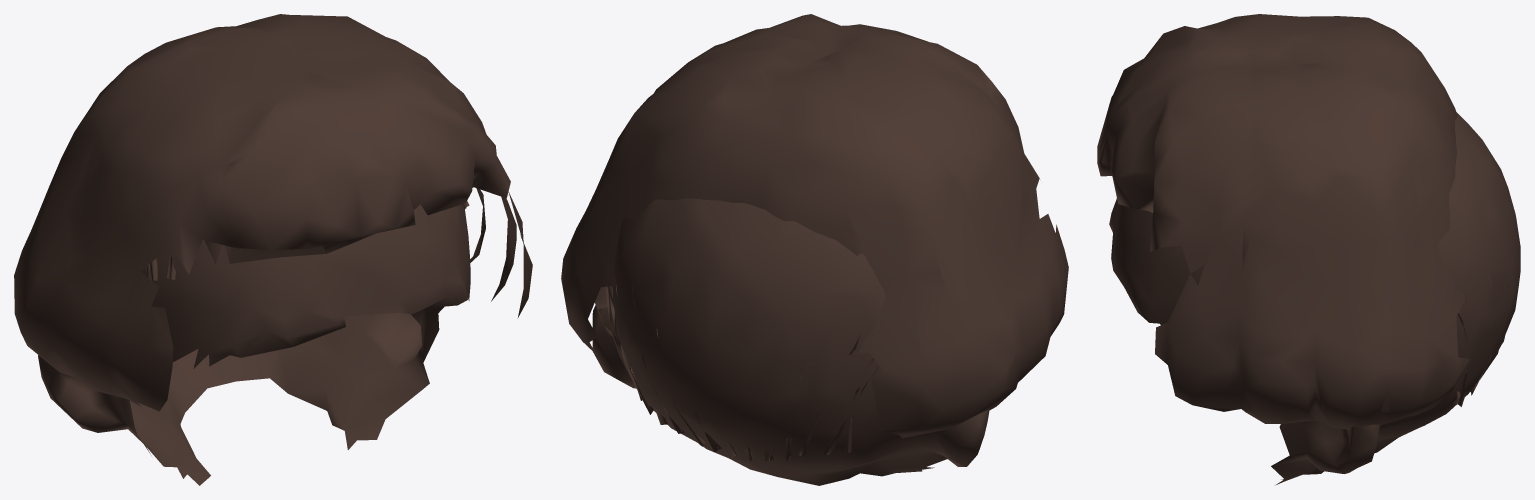
Rendered from blunt-bob.glb.
3 renders of one model, left to right at view 1: azimuth 30°, elevation 25°; view 2: azimuth 150°, elevation 25°; view 3: azimuth 270°, elevation 25°, orthographic. The views are drawn at different scales.
Parts seen in each view (by area): view 1: Hair, HairScalp; view 2: Hair, HairScalp, HairPulledRootStrands; view 3: Hair, HairScalp, HairPulledRootStrands.
Boxes of the visible parts, left/top/right/bottom form: Hair: left=14, top=14, right=532, bottom=411; HairScalp: left=38, top=204, right=470, bottom=485; Hair: left=561, top=14, right=1068, bottom=438; HairScalp: left=592, top=198, right=989, bottom=485; HairPulledRootStrands: left=606, top=257, right=878, bottom=461; Hair: left=1097, top=14, right=1469, bottom=429; HairScalp: left=1109, top=112, right=1520, bottom=485; HairPulledRootStrands: left=1453, top=271, right=1508, bottom=406.
Bounding box in the file's own units: 0.5198 × 0.4548 × 0.4316.
